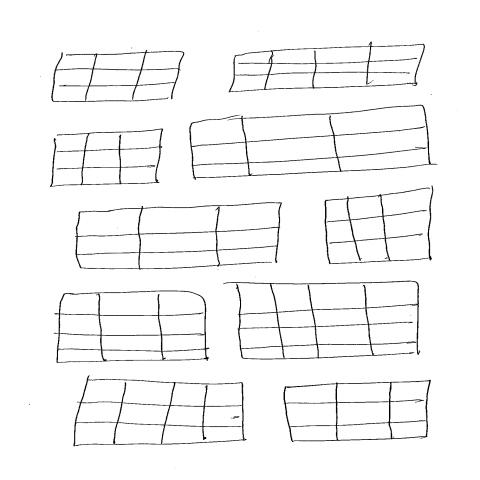Table: (189, 105, 433, 180), (234, 281, 422, 362), (74, 202, 283, 271), (72, 379, 248, 449), (55, 290, 211, 365), (283, 379, 434, 445), (228, 44, 427, 94), (325, 186, 437, 265), (50, 50, 187, 105), (49, 129, 165, 188)
